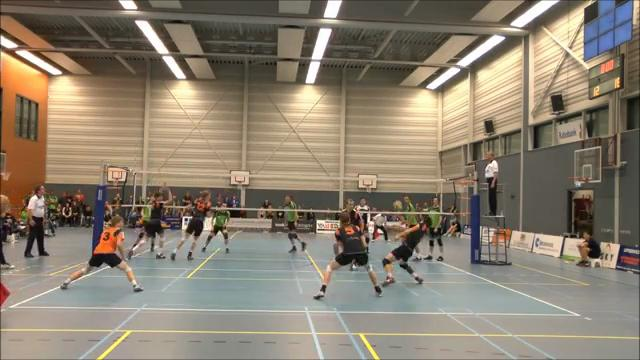Dig: (380, 211, 431, 287)
Player: (61, 215, 142, 291), (313, 212, 381, 299), (171, 191, 210, 260), (147, 185, 171, 258), (202, 203, 230, 252), (127, 206, 150, 259), (284, 195, 305, 252), (426, 198, 443, 260), (355, 198, 370, 244), (344, 199, 364, 228), (401, 194, 417, 228)
ball: (393, 200, 404, 212)
